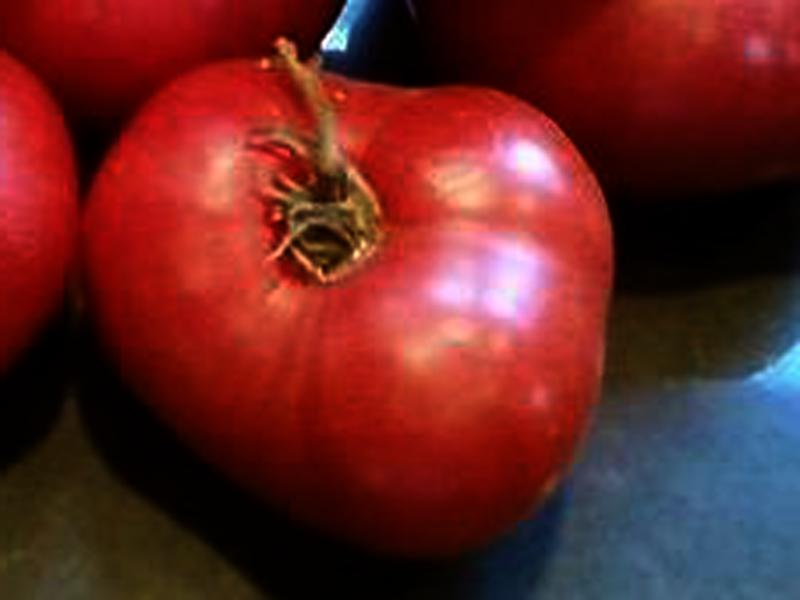Tomato: (84, 58, 615, 557)
